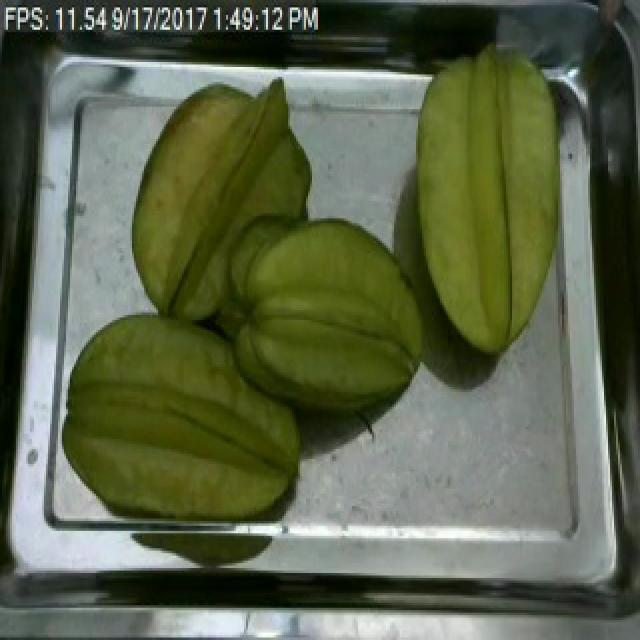fruit: (50, 300, 314, 533), (396, 35, 578, 372), (118, 75, 324, 338), (222, 208, 436, 430)
